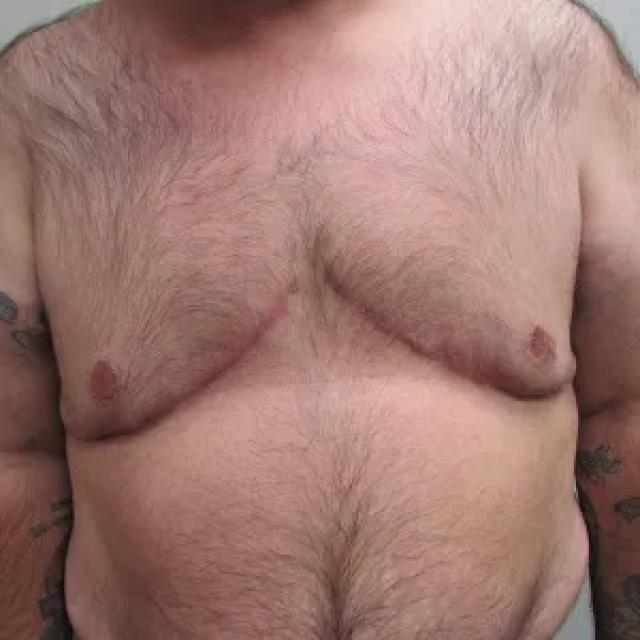Seno herido: (42, 213, 305, 469), (314, 215, 586, 428)
